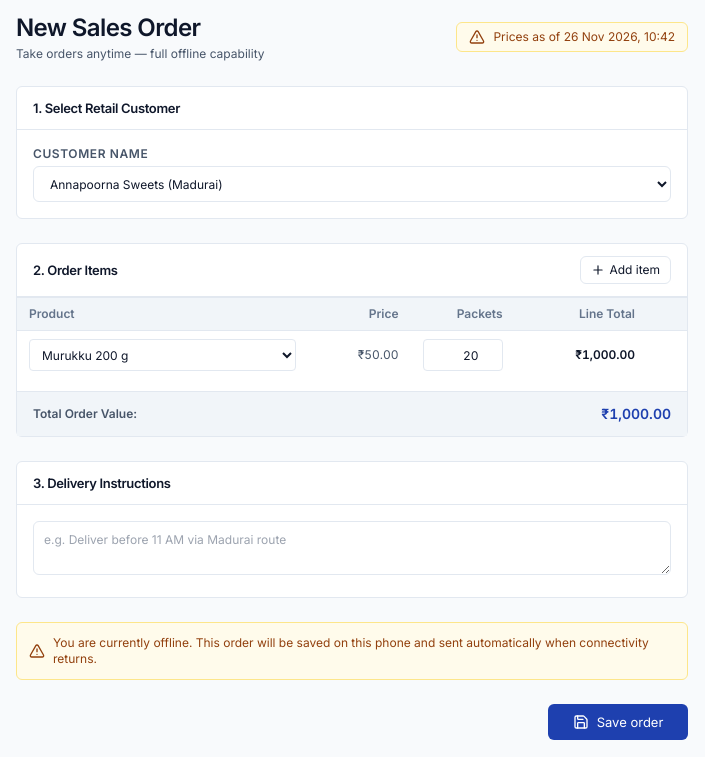
Salesman Mobile Offline UI States › SalesmanOrderPage Offline Behavior › shows "Prices as of 26 Nov 2026, 10:42", amber review strip, and "Save order" button when offline
Expected: the element with test id "offline-prices-banner" is shown, [456,22,688,52]
Expected: the text "Prices as of 26 Nov 2026, 10:42" is shown, [494,29,675,45]
Note: Order entry is NEVER blocked: click Save order
Click the button with test id "order-submit-button". click: [618, 722]
box: [548,704,688,740]
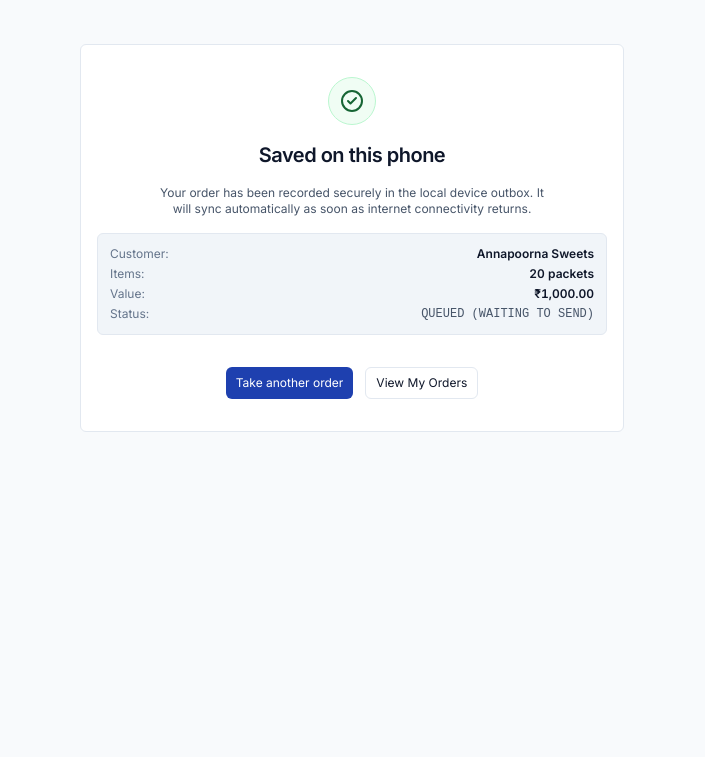
Expected: the heading with test id "success-title" reads "Saved on this phone", [259,143,445,167]
Result: the element with test id "order-success-screen" is shown at [64,12,640,464]
